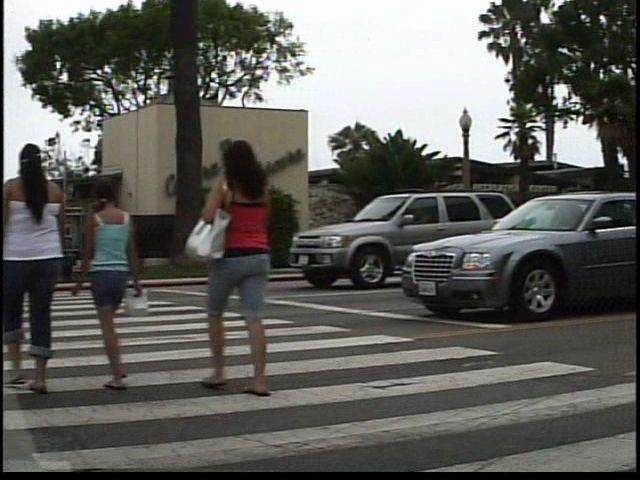person: (197, 137, 304, 405), (88, 176, 163, 401)
